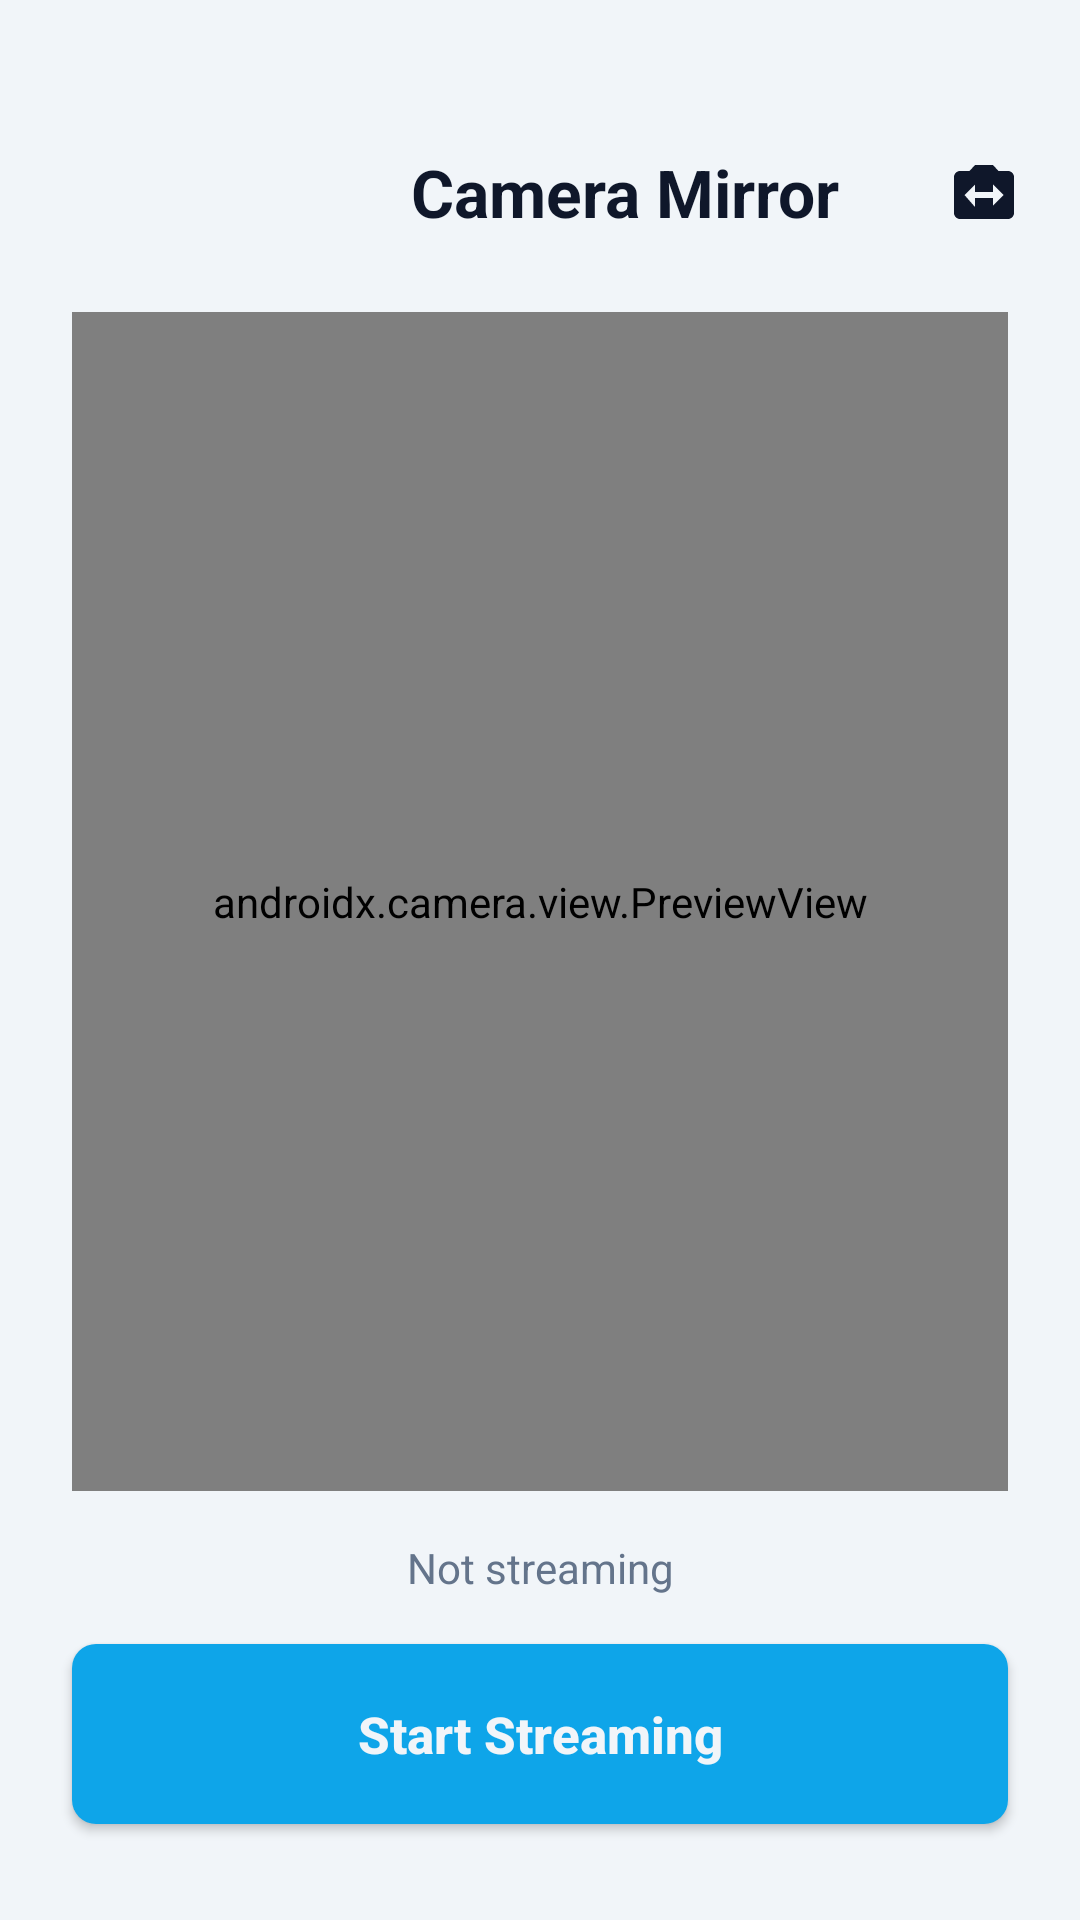

Locate icon controls on the screen. Image size 1080x1920, boxes as (x1, y1, x2, y2).
Flip camera: (954, 165, 1014, 219)
